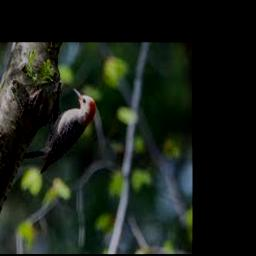Woodpecker: (22, 86, 95, 173)
